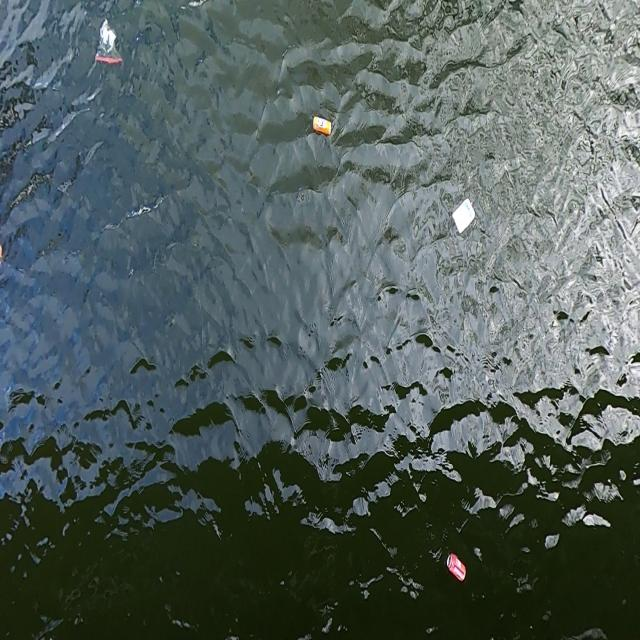Autre plastique: (449, 192, 479, 239)
Non plastique: (442, 551, 473, 591), (308, 112, 336, 140)
Sac plastique: (89, 15, 129, 72)
